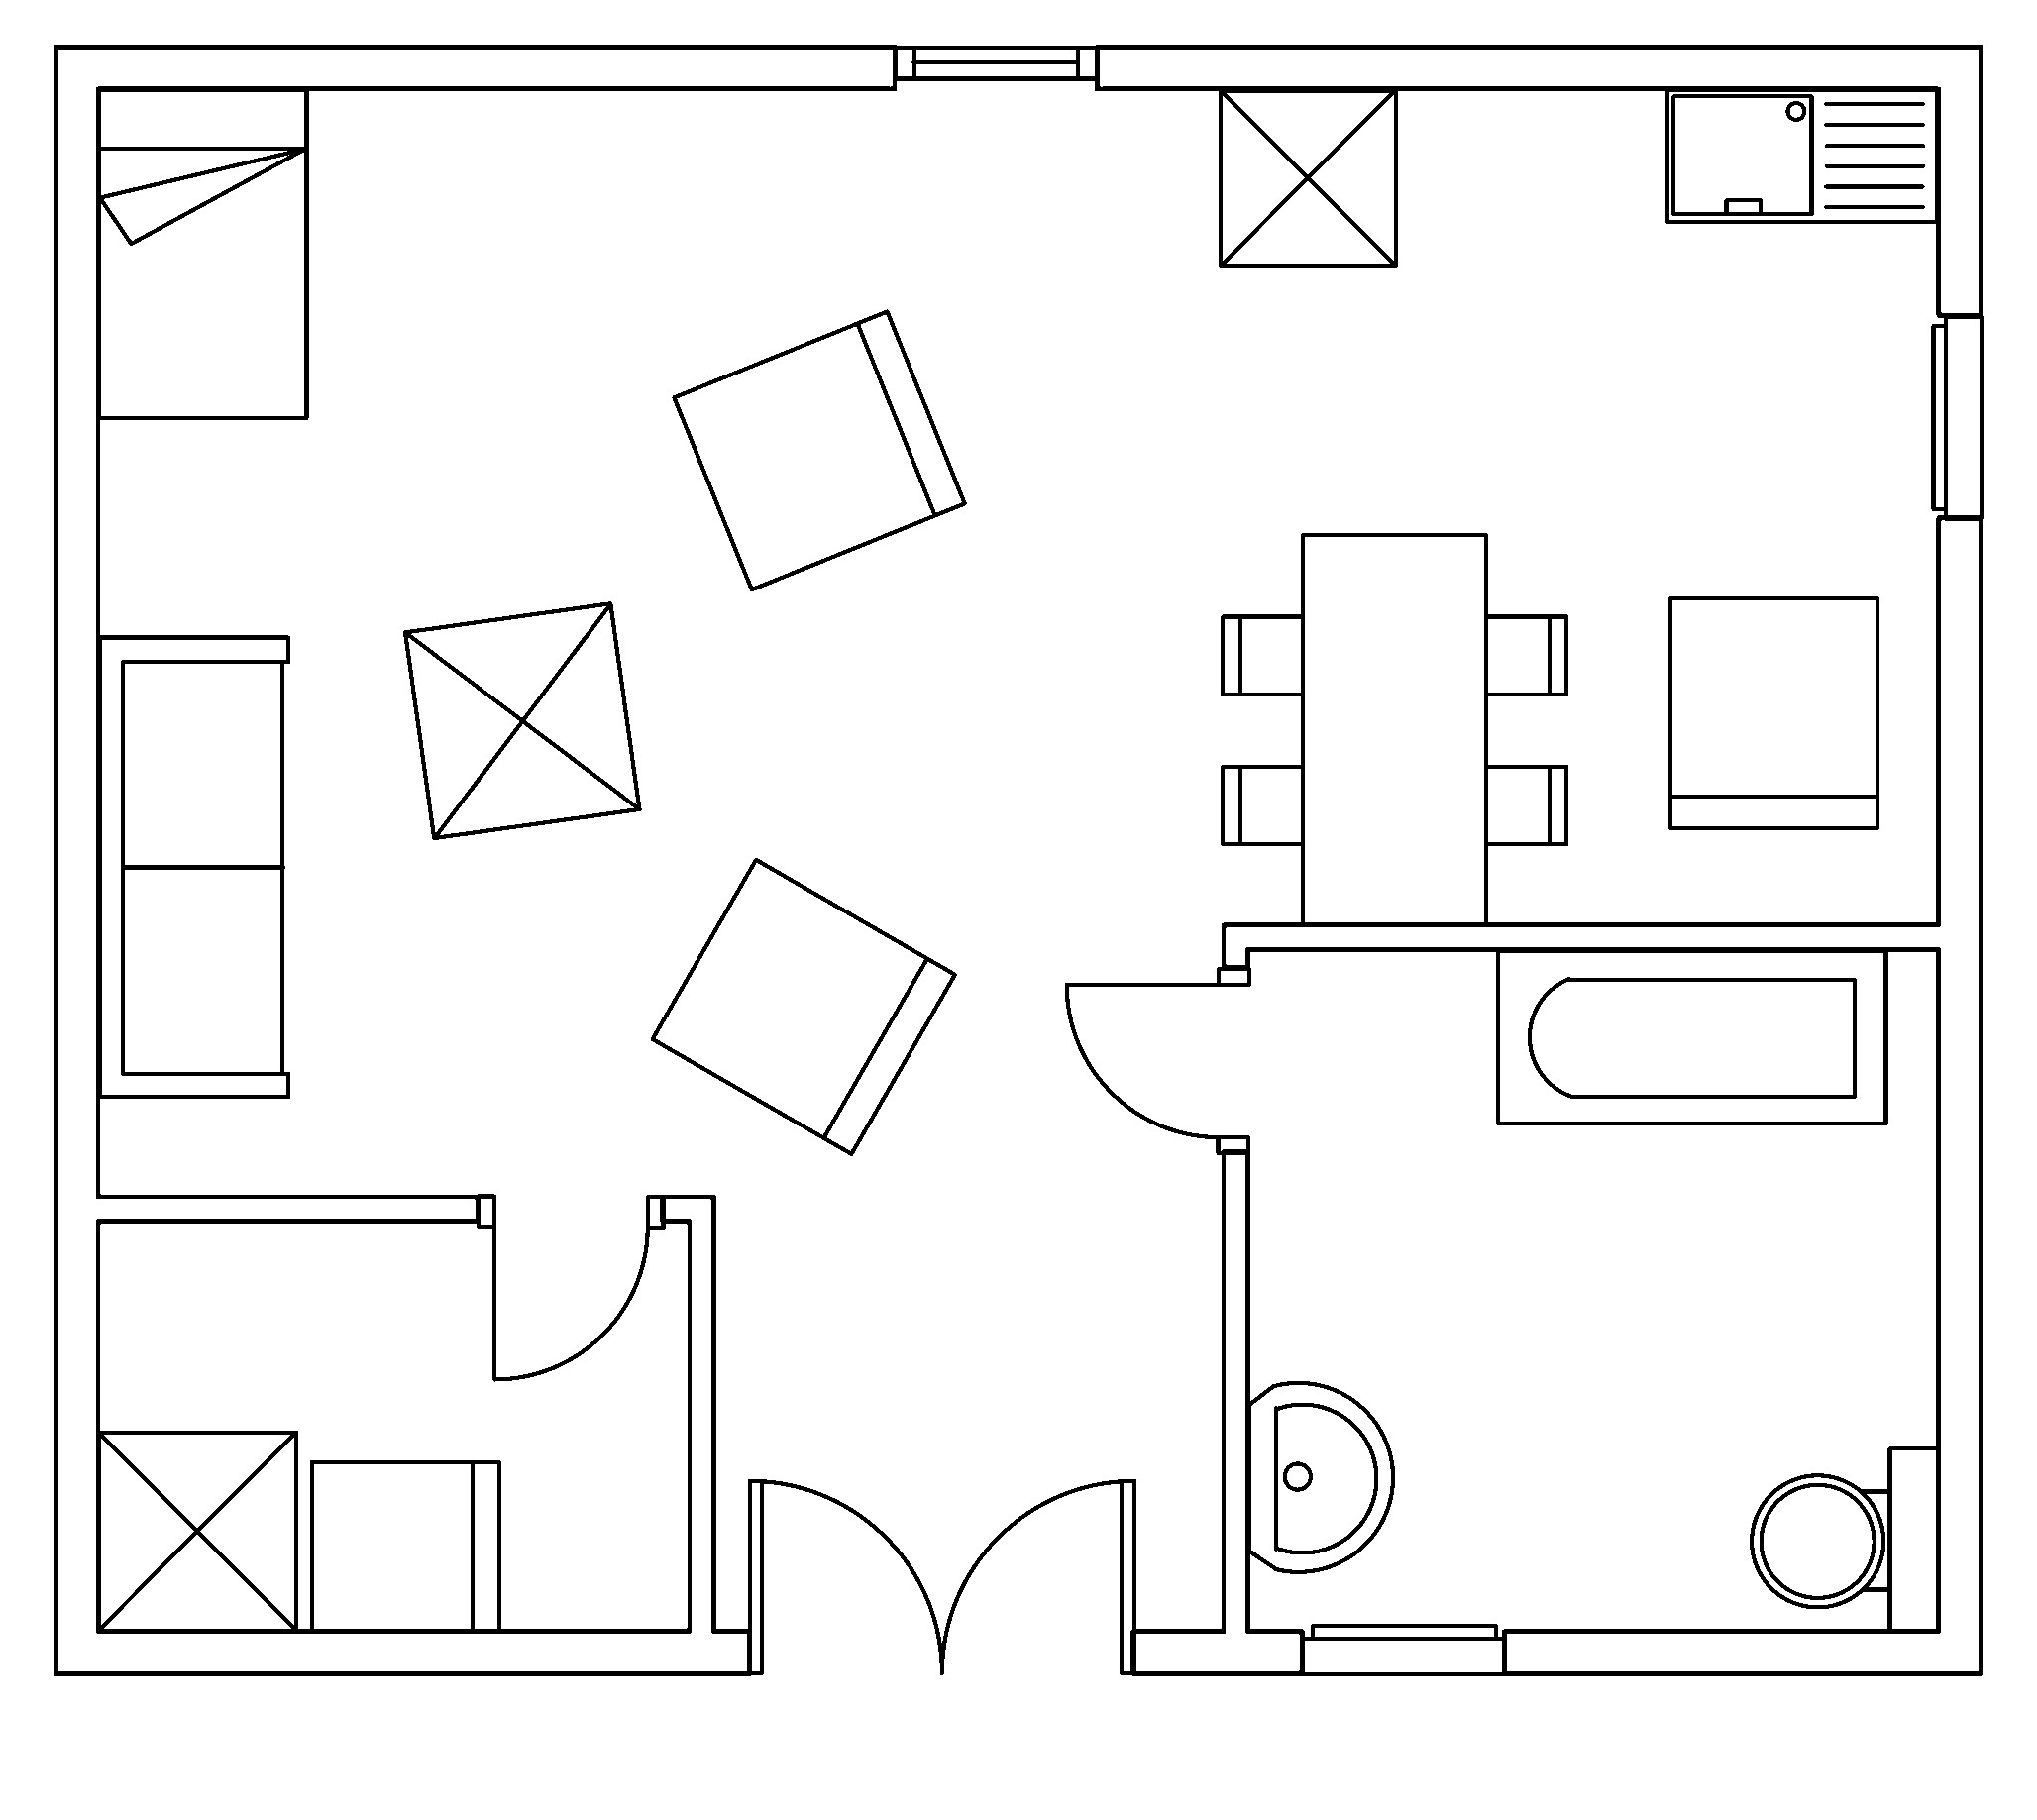bed: (95, 86, 309, 420)
coffee_table: (402, 599, 643, 840), (95, 1428, 299, 1632), (1217, 86, 1398, 267)
dining_table: (1219, 531, 1568, 926)
large_sink: (1749, 1444, 1940, 1632)
large_sofa: (97, 632, 290, 1098)
sink: (1663, 86, 1940, 223)
small_sink: (1245, 1381, 1394, 1572)
small_sofa: (650, 856, 957, 1156), (669, 307, 968, 592), (1666, 594, 1879, 831), (307, 1458, 500, 1632)
tub: (1494, 947, 1888, 1126)
